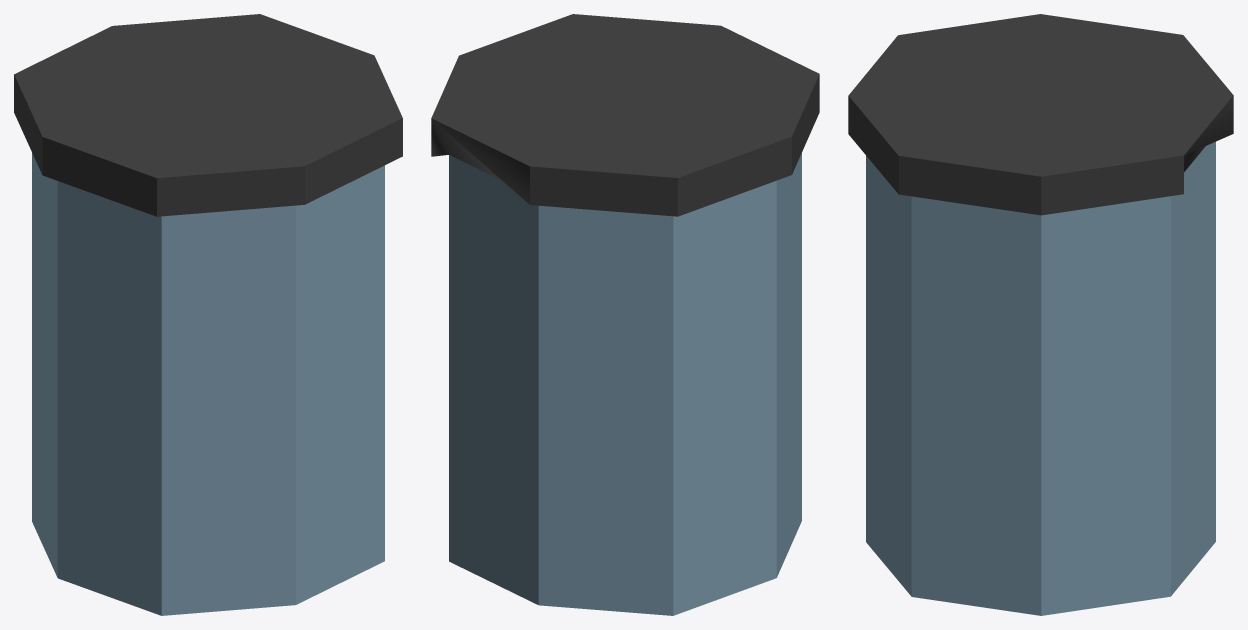
The model's file is Jar_4.fbx.
3 renders of one model, left to right at view 1: azimuth 30°, elevation 25°; view 2: azimuth 150°, elevation 25°; view 3: azimuth 270°, elevation 25°, orthographic.
Parts seen in each view (by area): view 1: Jar_4; view 2: Jar_4; view 3: Jar_4.
Boxes of the visible parts, x1,y1,x2,y2 form: Jar_4: (14, 14, 402, 615); Jar_4: (431, 14, 819, 615); Jar_4: (848, 14, 1233, 615).
Size of the model in its own units: 27.94 by 27.94 by 35.75.
